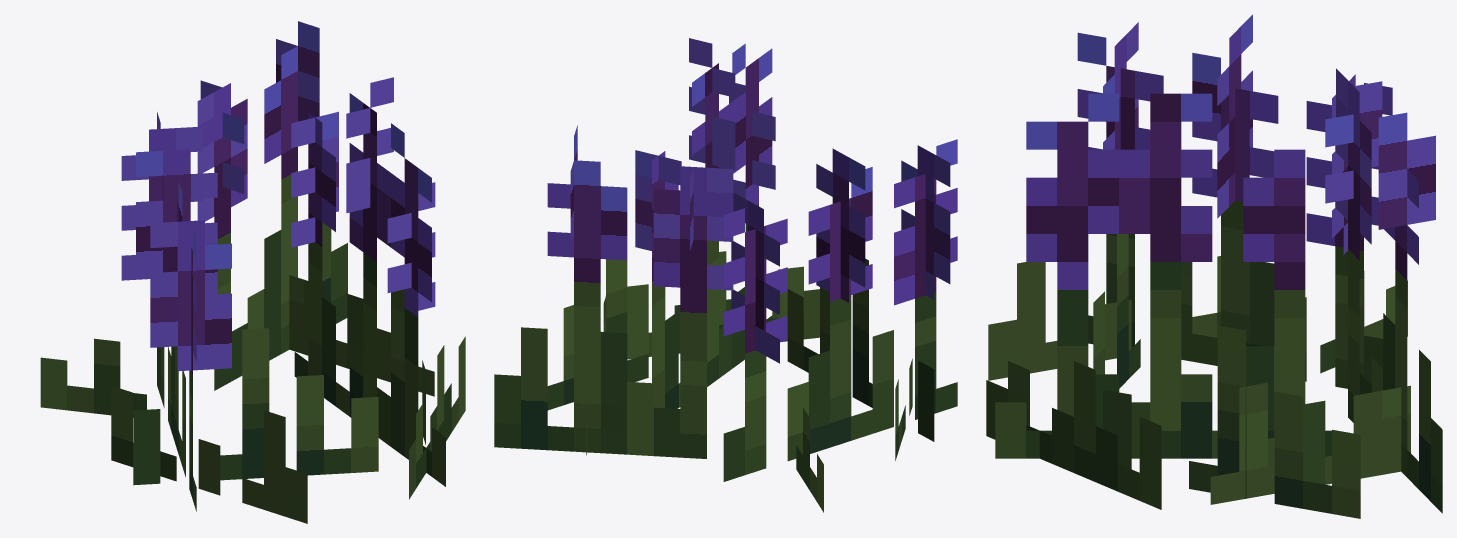
File: flower-lupin.gltf
3 renders of one model, left to right at view 1: azimuth 30°, elevation 25°; view 2: azimuth 150°, elevation 25°; view 3: azimuth 270°, elevation 25°, orthographic. The views are drawn at different scales.
Visible parts, largest first — view 1: cube; view 2: cube; view 3: cube.
Boxes of the visible parts, <box> form: cube: <box>40,21,465,523</box>; cube: <box>494,38,957,512</box>; cube: <box>986,14,1442,518</box>.
Size of the model in its own units: 0.9392 by 0.875 by 0.9208.
Materials: 1 (1 with a texture image).
